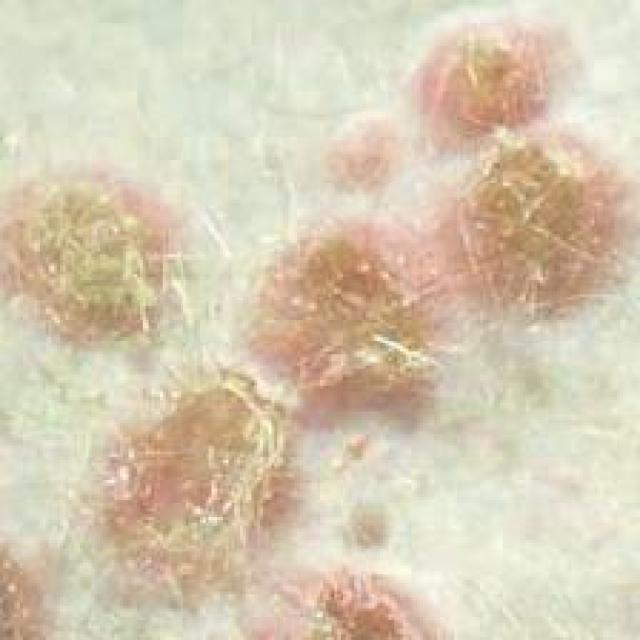monkeypox: (0, 36, 628, 638)
